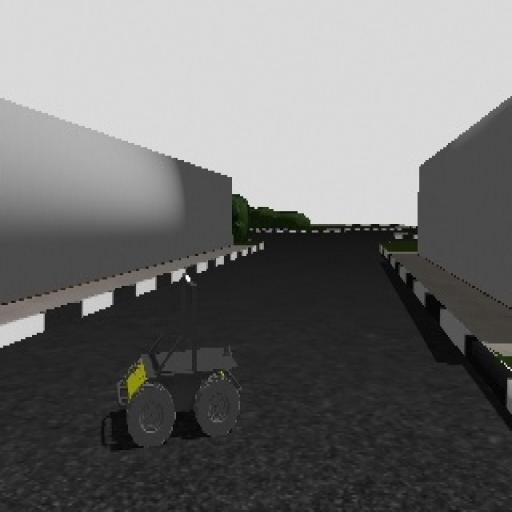huskya200: (111, 266, 267, 453)
